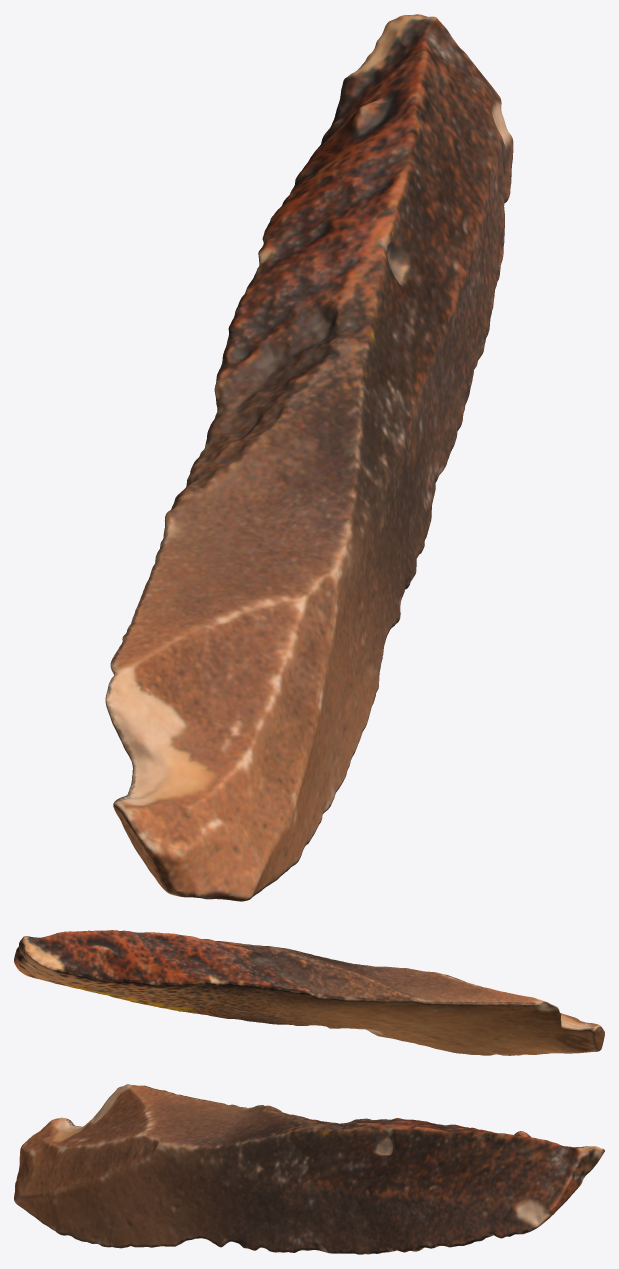
3 renders of one model, top to bottom at view 1: azimuth 30°, elevation 25°; view 2: azimuth 150°, elevation 25°; view 3: azimuth 270°, elevation 25°, orthographic. The views are drawn at different scales.
Parts seen in each view (by area): view 1: Node; view 2: Node; view 3: Node.
Boxes of the visible parts, x1,y1,x2,y2 form: Node: (105, 14, 513, 901); Node: (14, 930, 604, 1055); Node: (14, 1084, 604, 1254).
Bounding box in the file's own units: 41.53 × 20.87 × 43.86.
Materials: 1 (1 with a texture image).
